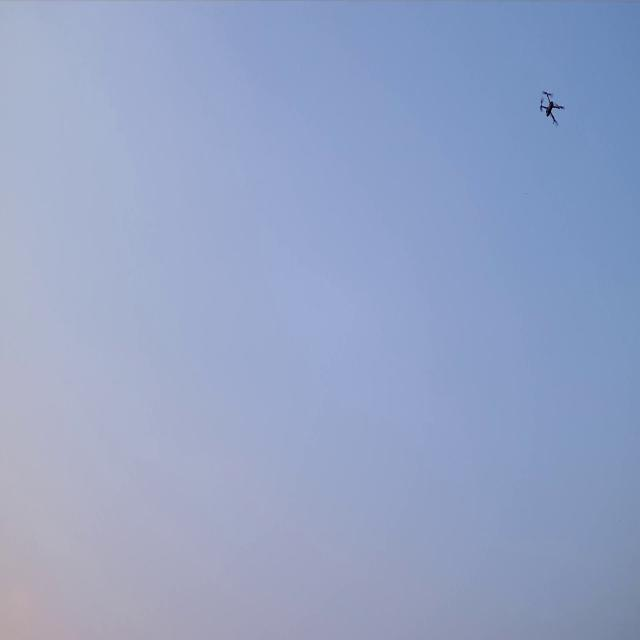UAV: (538, 88, 566, 129)
